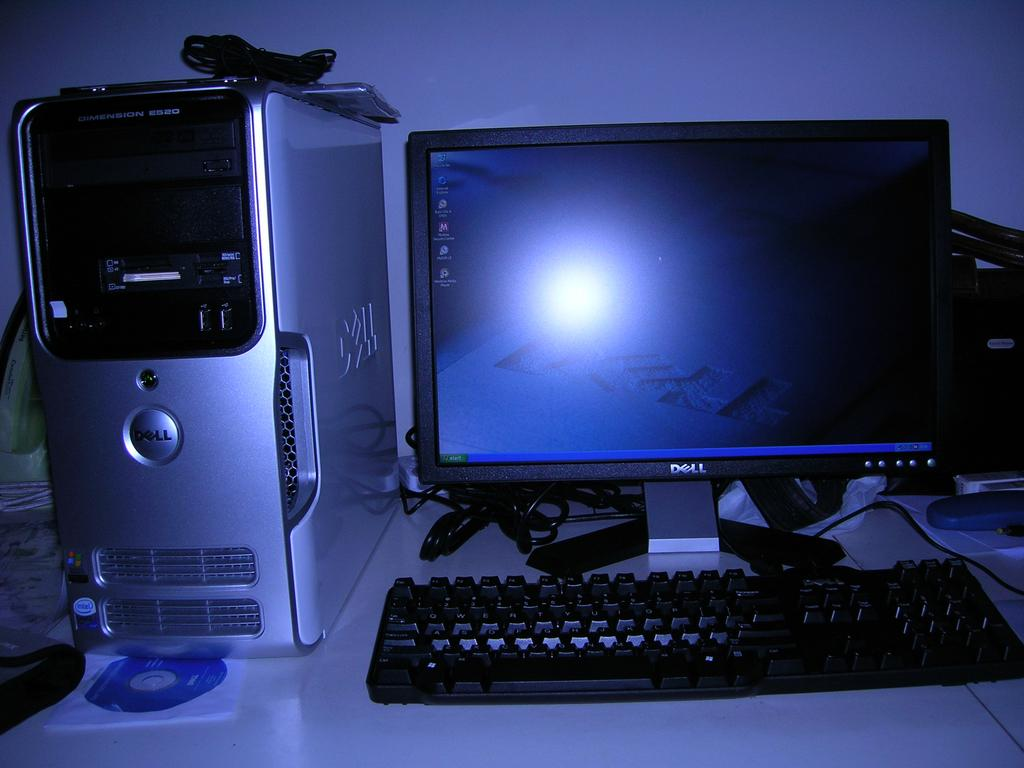Computer-keyboard: (362, 556, 1023, 706)
Computer-monitor: (368, 106, 996, 607)
